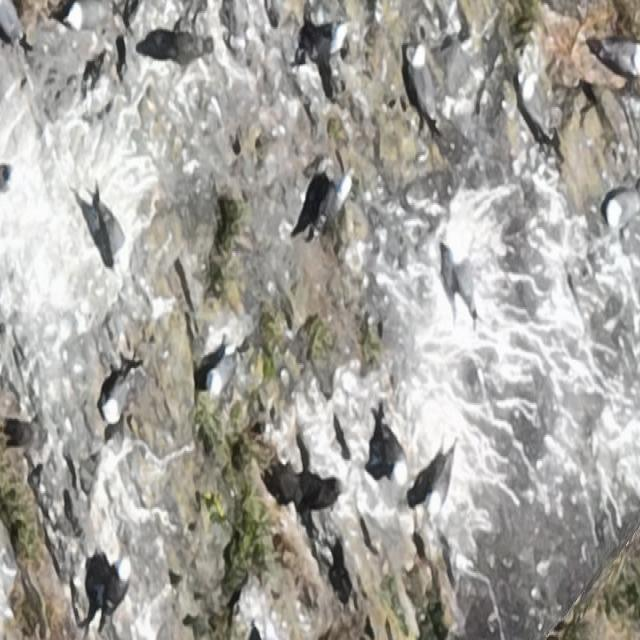umineko: (98, 207, 130, 270), (520, 79, 552, 139), (318, 174, 352, 228), (426, 450, 454, 514), (454, 241, 476, 320), (411, 45, 435, 115), (64, 0, 115, 32), (101, 368, 129, 426), (107, 554, 133, 616), (382, 431, 410, 483), (311, 22, 349, 60), (606, 185, 639, 227), (206, 350, 237, 393)
